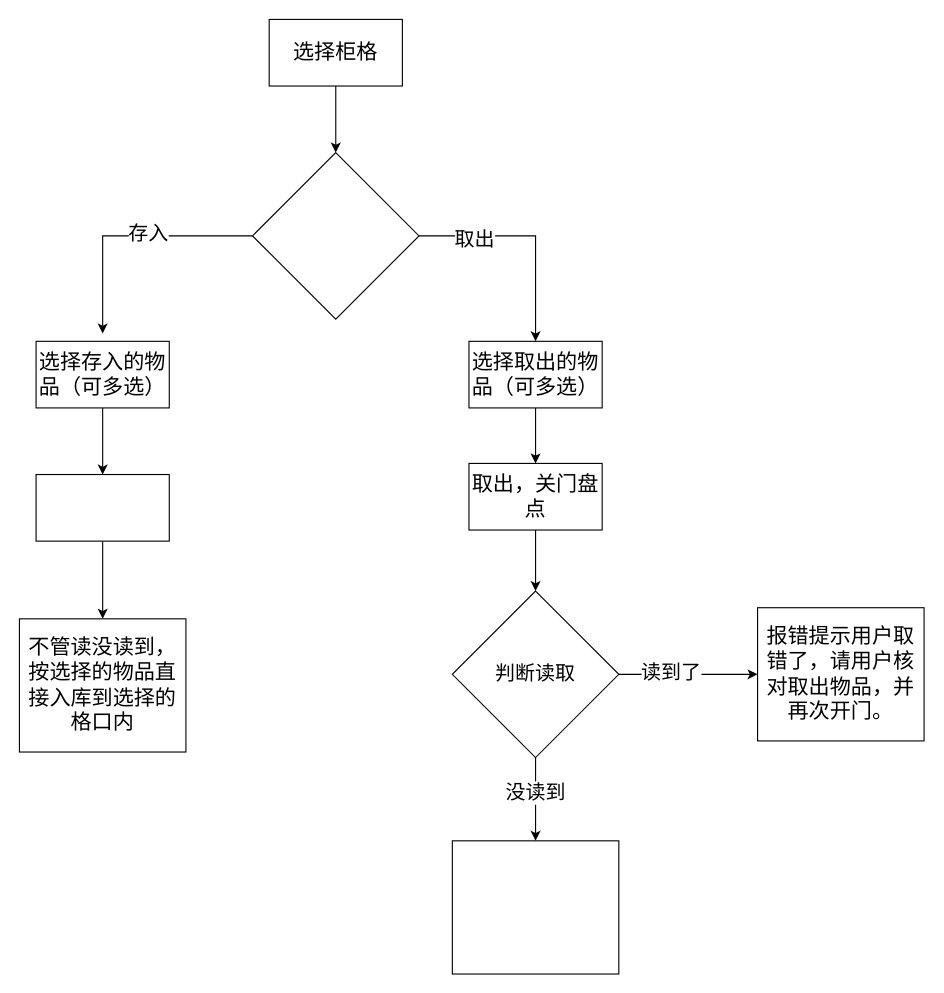
Some shapes in this 944 by 993 pixel diagram are drawn without their labels. Each missing label, with the centre of its shape:
"按选择的物品直接出库" goes at point 535,907.
"放入，关门盘点" goes at point 102,507.
"选择存入还是取出" goes at point 335,235.
